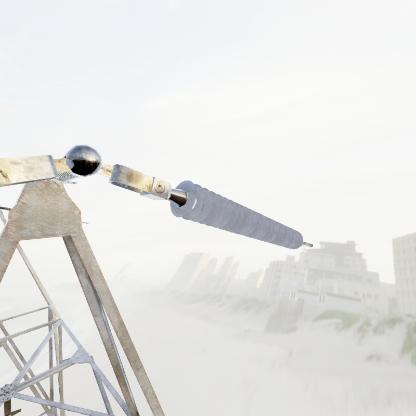insulator: (168, 177, 308, 251)
